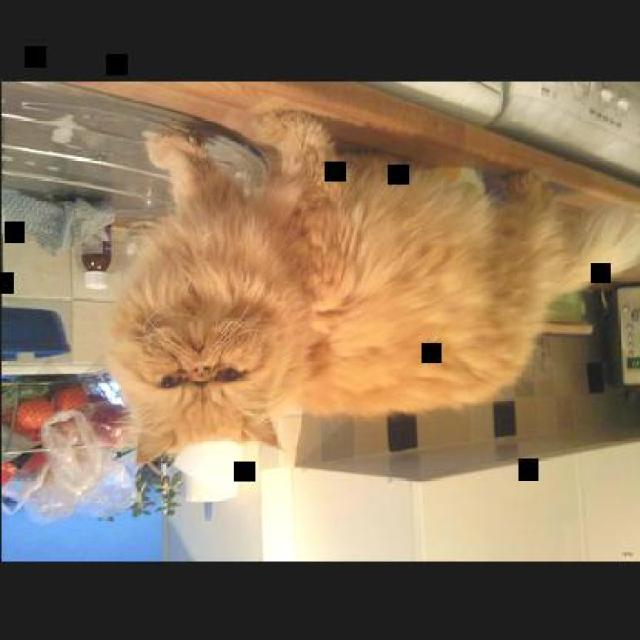unauthorized: (103, 104, 639, 464)
